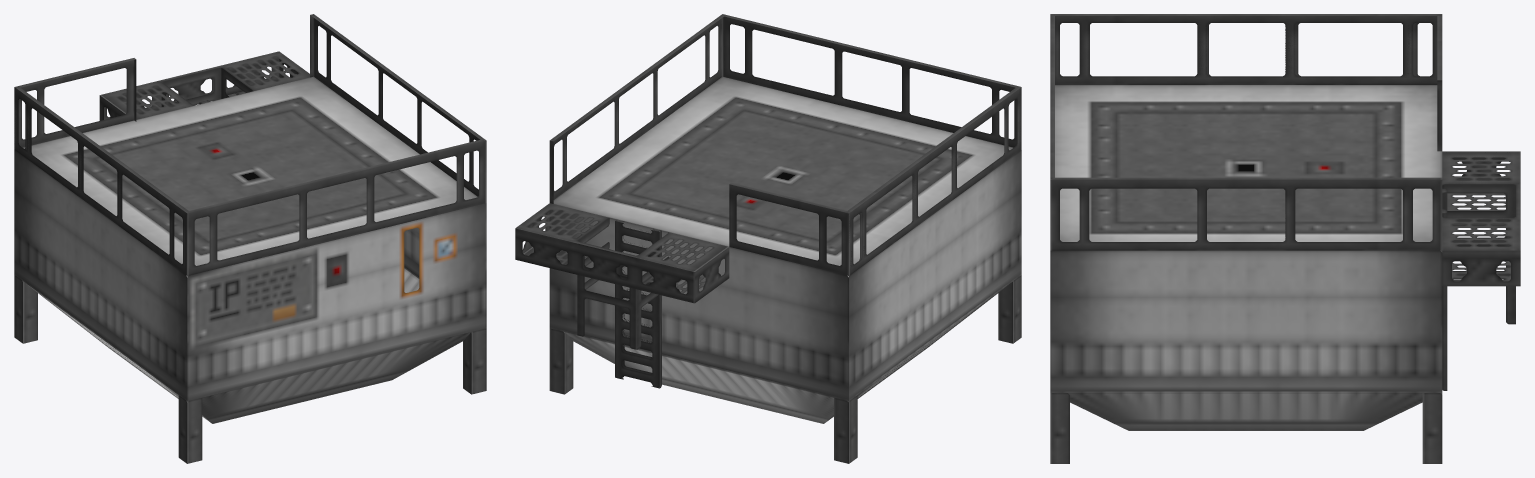
The model's file is oil_tank.obj.
3 renders of one model, left to right at view 1: azimuth 30°, elevation 25°; view 2: azimuth 150°, elevation 25°; view 3: azimuth 270°, elevation 25°, orthographic. The views are drawn at different scales.
Visible parts, largest first — view 1: oiltank_normal; view 2: oiltank_normal; view 3: oiltank_normal.
Boxes of the visible parts, x1,y1,x2,y2 form: oiltank_normal: (14, 14, 486, 463); oiltank_normal: (515, 14, 1021, 463); oiltank_normal: (1050, 14, 1520, 463).
Bounding box in the file's own units: 5 × 4 × 6.
